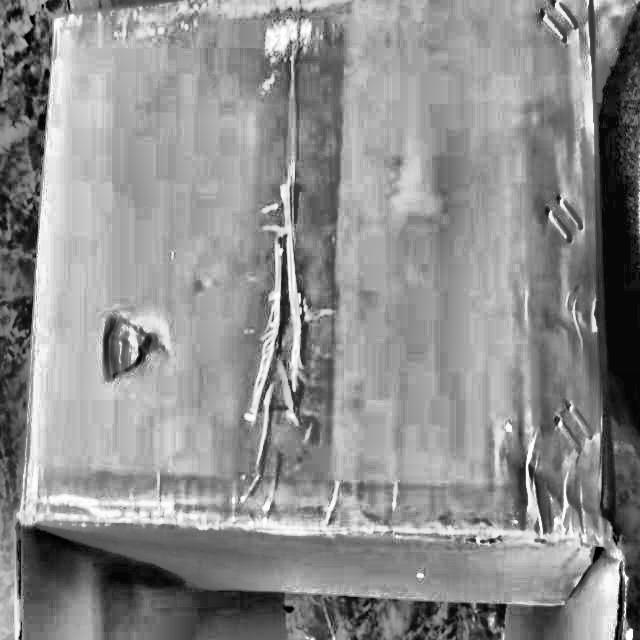box: (28, 0, 618, 622)
hole: (101, 309, 159, 387)
